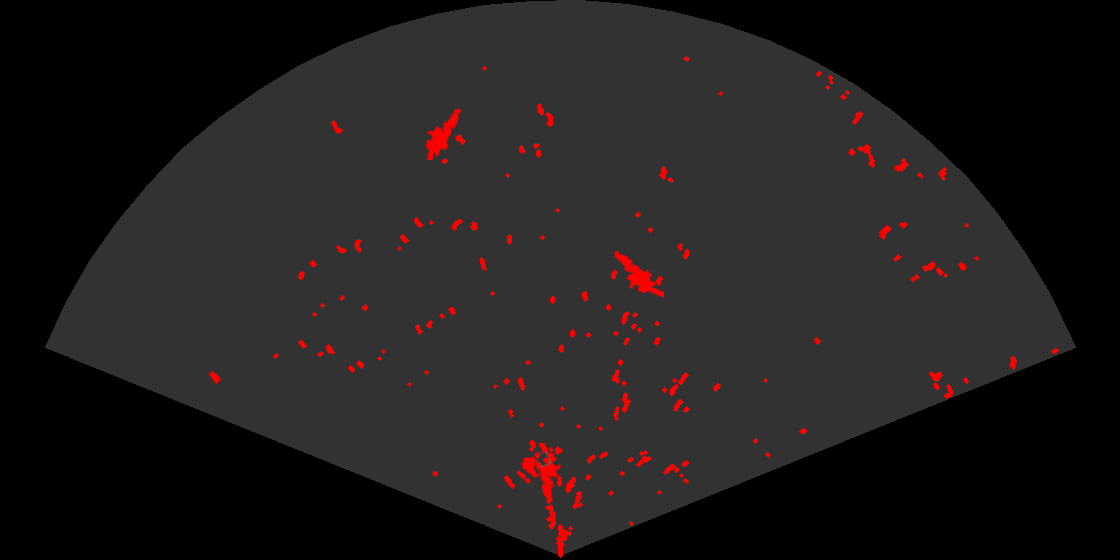ball: (515, 455, 545, 485)
frogman: (612, 249, 664, 300), (424, 106, 462, 160), (534, 443, 563, 506)
